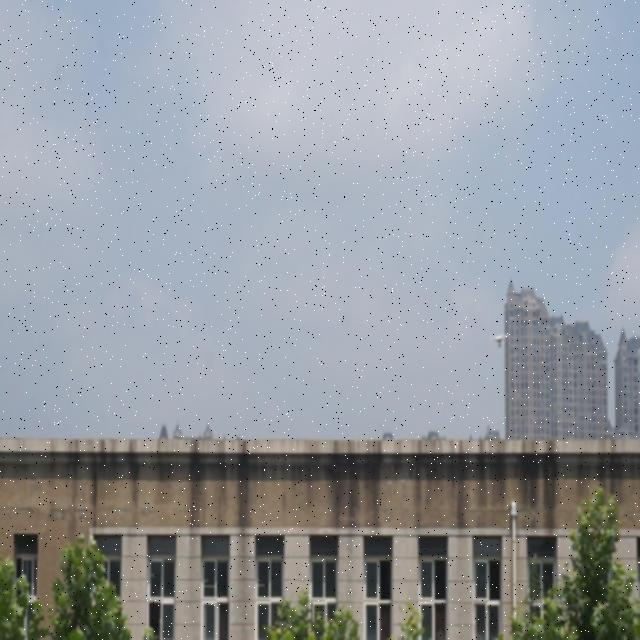UAV: (491, 334, 509, 349)
